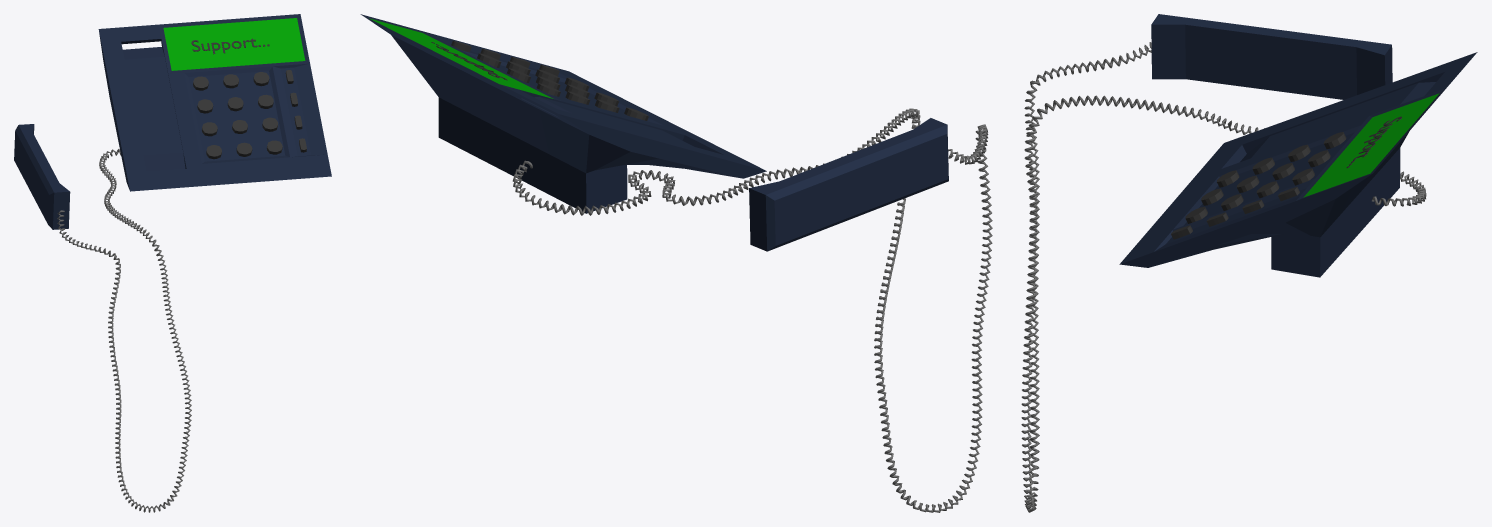
File: Telephone.fbx
The picture shows the model from 3 angles, left to right: view 1: azimuth 30°, elevation 25°; view 2: azimuth 150°, elevation 25°; view 3: azimuth 270°, elevation 25°; orthographic projection. The views are drawn at different scales.
Parts seen in each view (by area): view 1: Body, Circle, Phone, Button Left, Button Right, Button Middel, Button Square, Text Support...; view 2: Body, Phone, Circle, Button Left, Button Middel, Button Right; view 3: Body, Phone, Circle, Button Middel, Button Left, Button Right, Button Square.
Boxes of the visible parts, x1=… form: Body: x1=98, y1=14, x2=331, y2=191; Circle: x1=57, y1=149, x2=191, y2=512; Phone: x1=14, y1=124, x2=70, y2=229; Button Left: x1=193, y1=76, x2=221, y2=159; Button Right: x1=253, y1=72, x2=282, y2=154; Button Middel: x1=223, y1=74, x2=252, y2=156; Button Square: x1=285, y1=70, x2=306, y2=152; Text Support...: x1=191, y1=38, x2=269, y2=54; Body: x1=360, y1=14, x2=766, y2=213; Phone: x1=749, y1=118, x2=948, y2=251; Circle: x1=512, y1=108, x2=992, y2=512; Button Left: x1=536, y1=83, x2=648, y2=120; Button Middel: x1=507, y1=68, x2=618, y2=106; Button Right: x1=477, y1=53, x2=589, y2=91; Body: x1=1119, y1=52, x2=1477, y2=277; Phone: x1=1151, y1=14, x2=1392, y2=99; Circle: x1=1021, y1=42, x2=1426, y2=512; Button Middel: x1=1201, y1=150, x2=1330, y2=205; Button Left: x1=1217, y1=132, x2=1346, y2=187; Button Right: x1=1185, y1=168, x2=1314, y2=223; Button Square: x1=1171, y1=187, x2=1299, y2=239.
Size of the model in its own units: 182 by 189 by 149.
